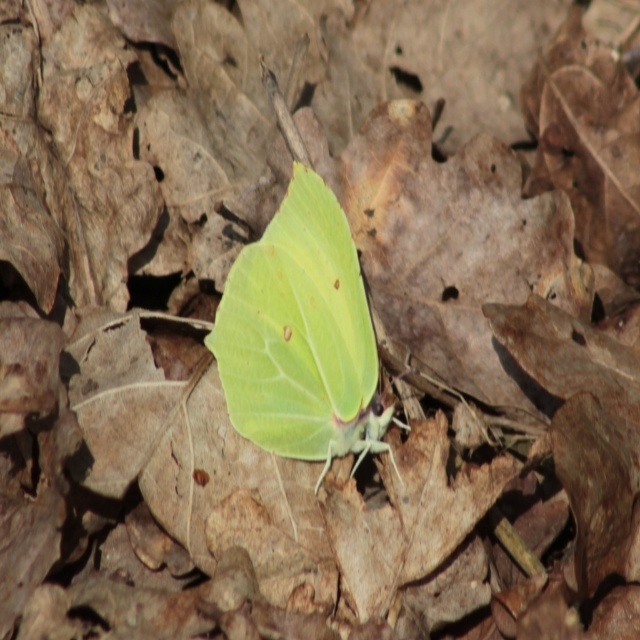Moths and butterflies: (199, 155, 412, 498)
